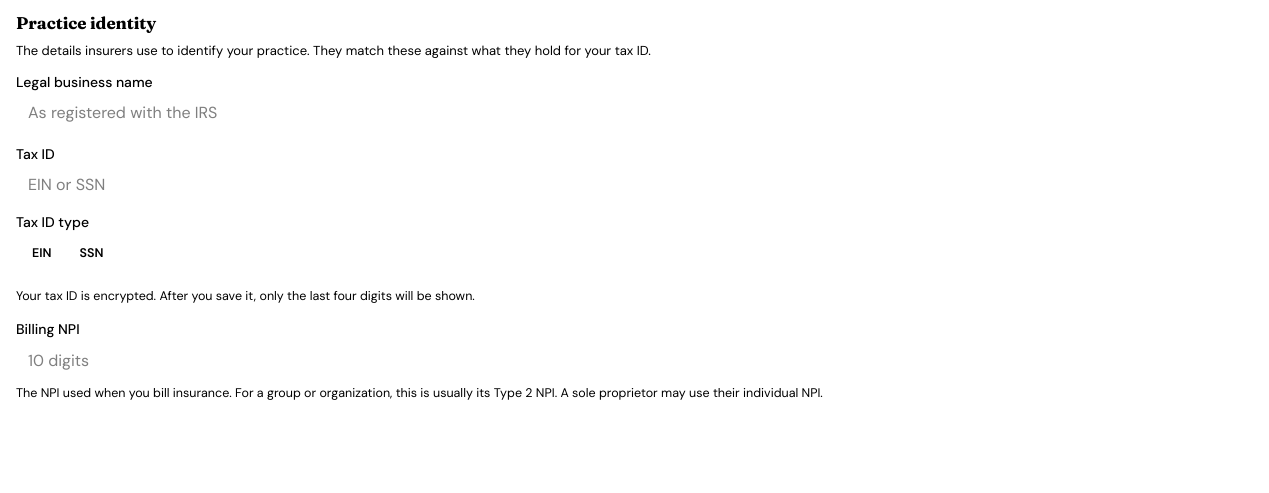
the tax ID › refuses one that is not nine digits
Type "12345" into the field with test id "tax-id-input".
click(634, 185); type("12345")  # box [16, 167, 1252, 203]
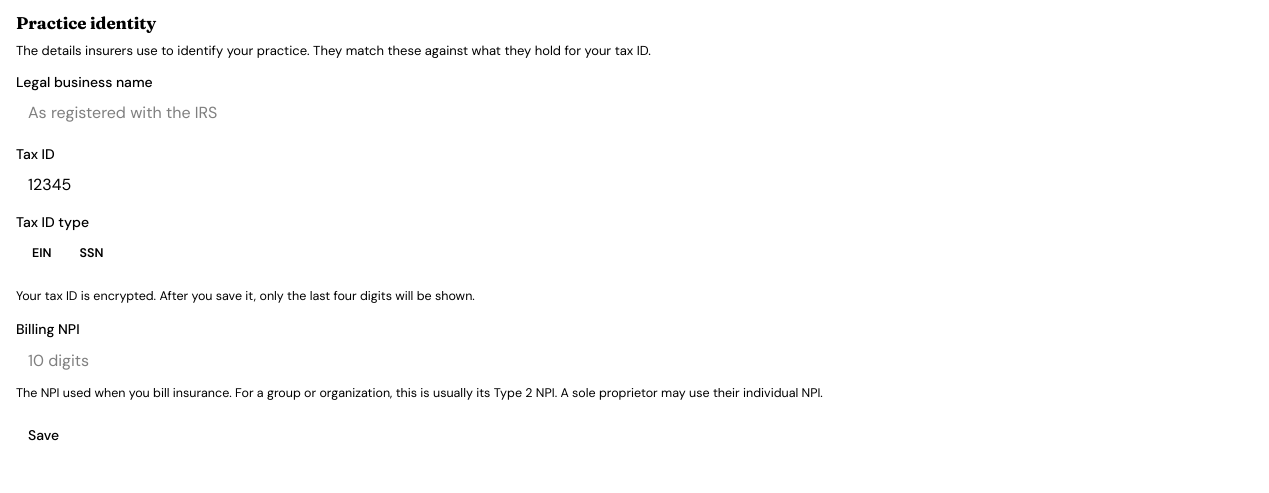
Click the button "Save".
click(44, 435)  # box [16, 419, 71, 451]
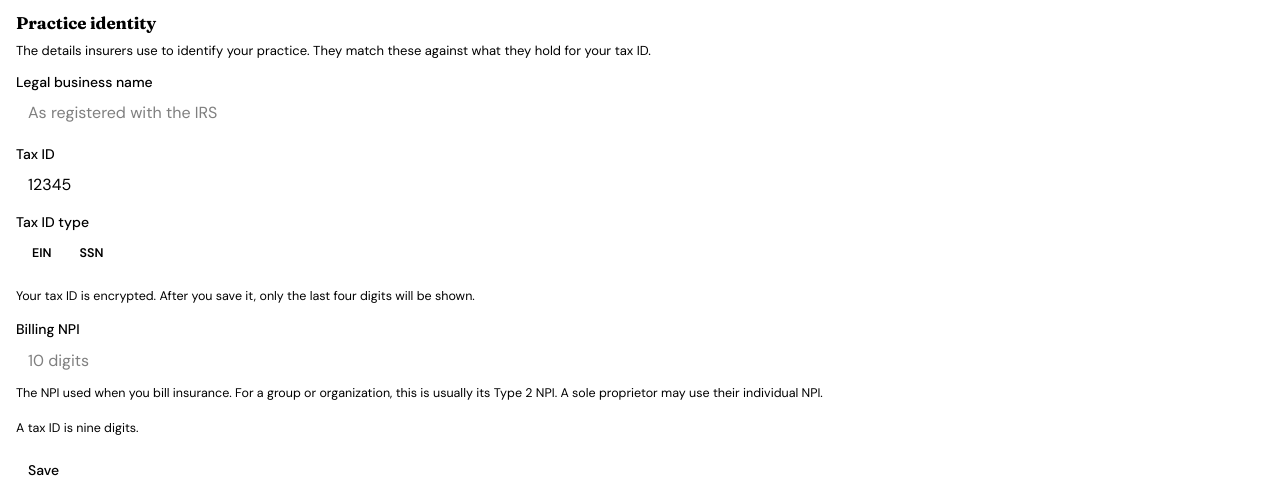
Expected: the message shows "nine digits", [16, 420, 138, 436]
